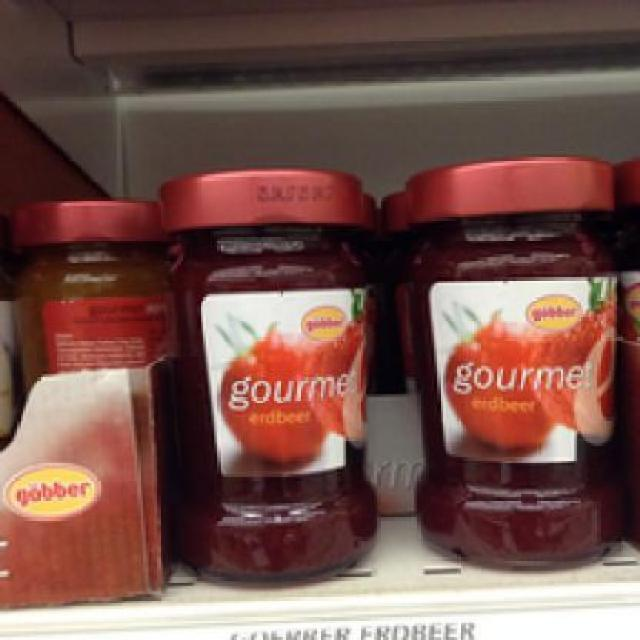Jam: (151, 163, 380, 583), (403, 153, 620, 570), (14, 197, 154, 397)
